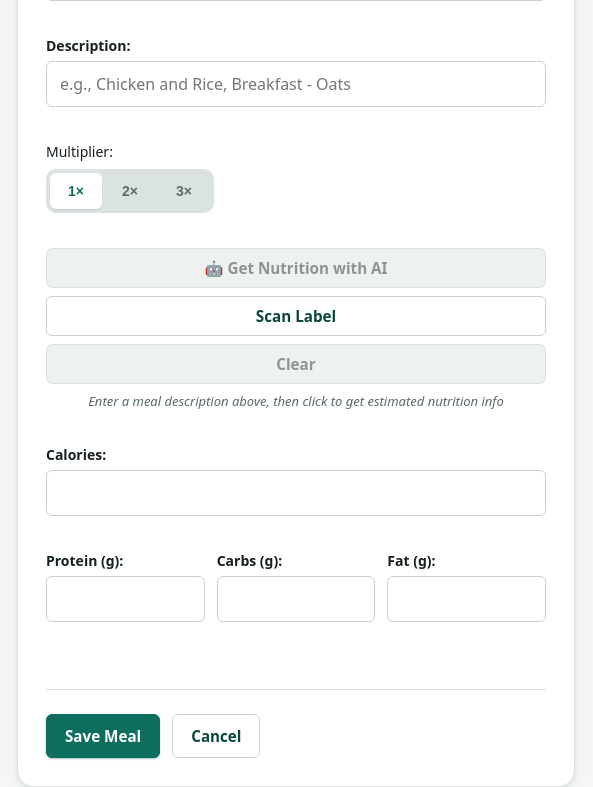
Test case: MealForm › validates required fields
(page scrolled)
# Submit the form without filling required fields
Click the button "Save Meal". click: [103, 736]
box: x1=46 y1=714 x2=160 y2=758
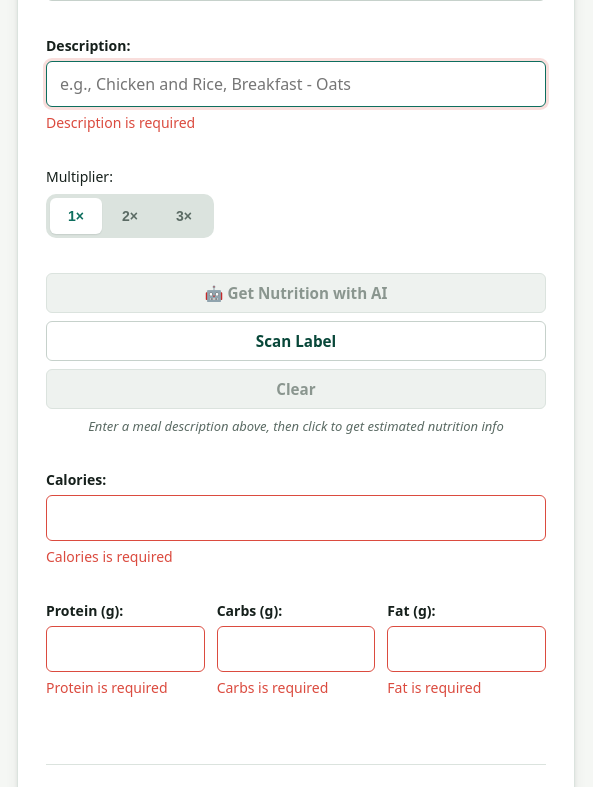
Expected: the text "Description is required" is shown, x1=46 y1=113 x2=195 y2=132
Expected: the text "Calories is required" is shown, x1=46 y1=547 x2=173 y2=566
Expected: the text "Protein is required" is shown, x1=46 y1=678 x2=168 y2=697
